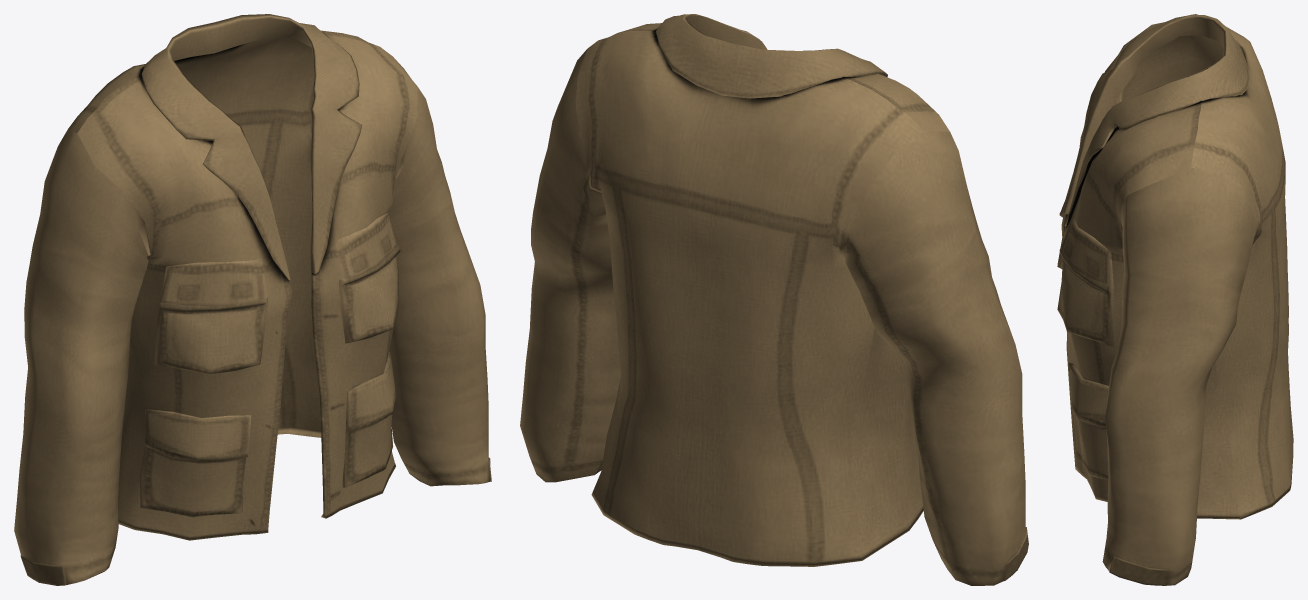
The model's file is clothing_jacket.glb.
3 renders of one model, left to right at view 1: azimuth 30°, elevation 25°; view 2: azimuth 150°, elevation 25°; view 3: azimuth 270°, elevation 25°, orthographic. The views are drawn at different scales.
Visible parts, largest first — view 1: Cloth_jacket; view 2: Cloth_jacket; view 3: Cloth_jacket.
Part boxes in pixels (x1=…): Cloth_jacket: x1=14, y1=14, x2=491, y2=585; Cloth_jacket: x1=520, y1=14, x2=1028, y2=585; Cloth_jacket: x1=1057, y1=14, x2=1293, y2=585.
Bounding box in the file's own units: 0.7015 × 0.7047 × 0.3377.
Materials: 1 (1 with a texture image).
